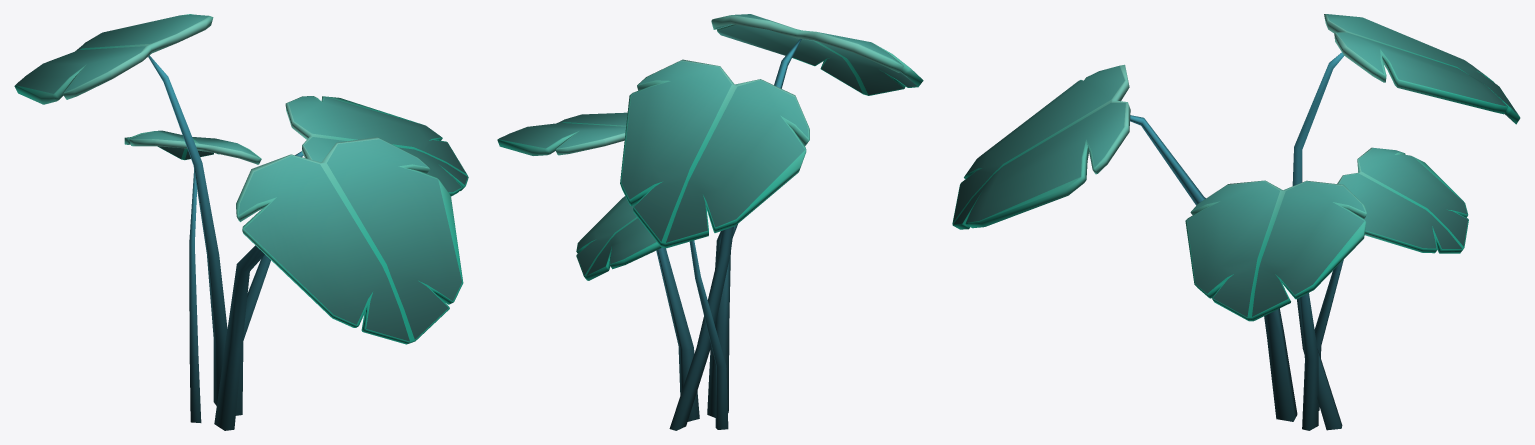
Rendered from Plant_A_2.fbx.
3 views of the same model, side by side, from view 1: azimuth 30°, elevation 25°; view 2: azimuth 150°, elevation 25°; view 3: azimuth 270°, elevation 25° (orthographic). The views are drawn at different scales.
Parts seen in each view (by area): view 1: Plant_A_2; view 2: Plant_A_2; view 3: Plant_A_2.
Boxes of the visible parts, left/top/right/bottom form: Plant_A_2: left=14, top=14, right=468, bottom=430; Plant_A_2: left=497, top=14, right=923, bottom=430; Plant_A_2: left=952, top=14, right=1520, bottom=430.
Bounding box in the file's own units: 47 × 47.93 × 65.83.
